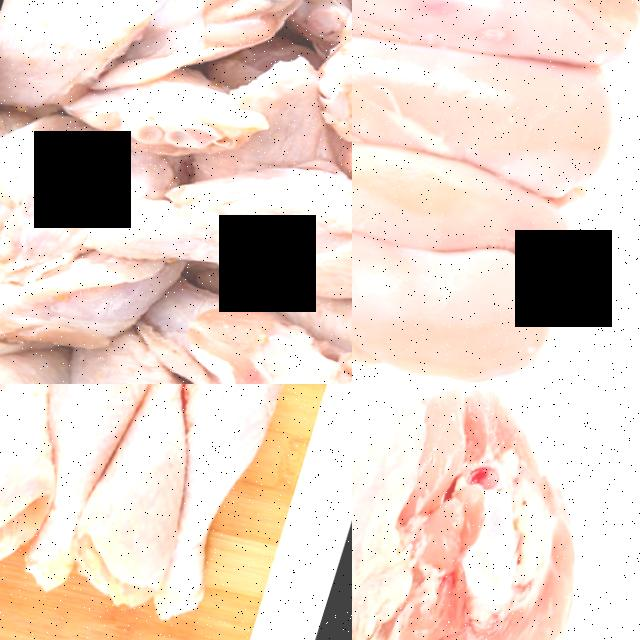chicken breast: (352, 74, 628, 323), (352, 0, 640, 232), (352, 174, 564, 384), (352, 0, 640, 127)
chicken thigh: (352, 384, 630, 640), (140, 384, 310, 640), (69, 384, 237, 618), (9, 384, 169, 602), (0, 384, 117, 591), (352, 558, 549, 640)
chicken wing: (67, 104, 352, 368)
